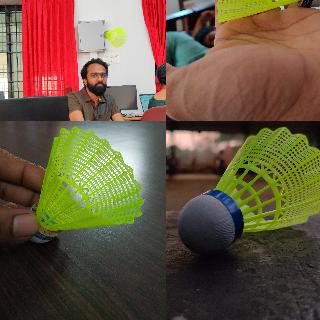shuttlecock: (178, 128, 319, 248), (29, 127, 142, 243), (216, 0, 319, 24), (102, 28, 126, 46)
